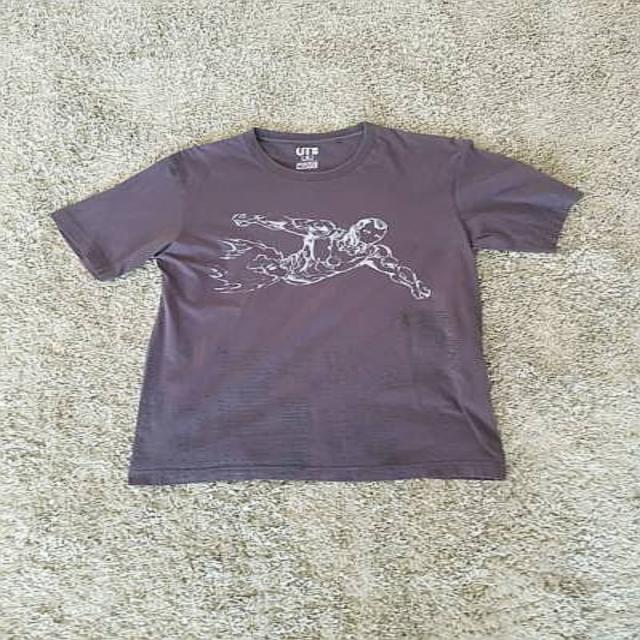T_SHIRT: (37, 110, 593, 499)
